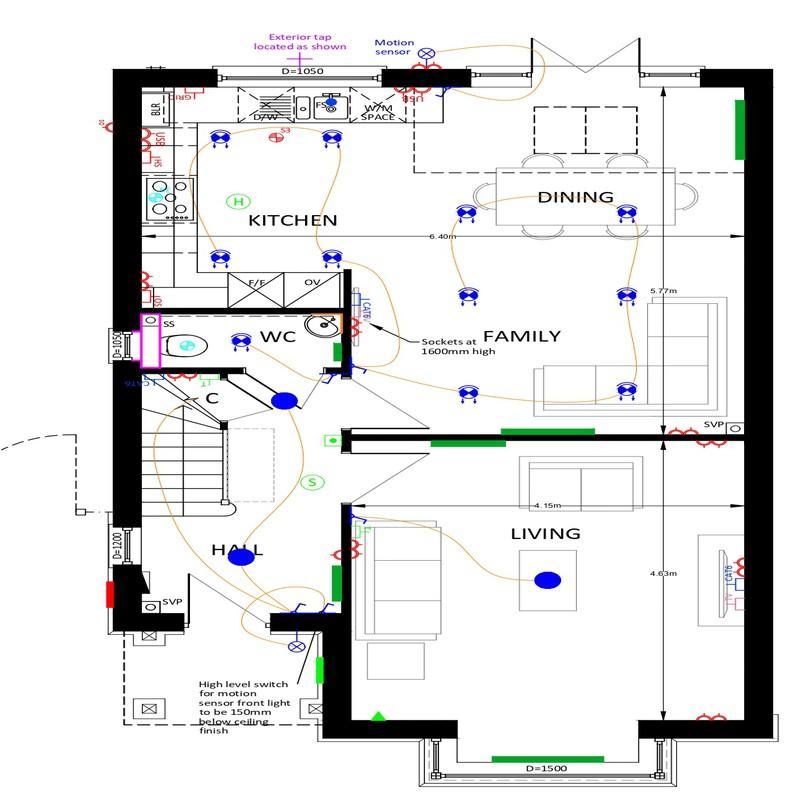BT Entry Point: (371, 711, 385, 720)
Cat 6 Data Socket: (724, 565, 744, 591), (352, 293, 370, 318), (136, 374, 164, 386)
Ceiling Mounted Continuous Extract FanWith Boost Mode Activated By Light Switch: (180, 341, 195, 350)
Ceiling Mounted Continuous Extract FanWith Local Boost Switch: (269, 127, 290, 143)
Co-Ax TV Socket: (724, 593, 744, 610), (352, 306, 371, 322)
Consumer Unit: (142, 571, 150, 594)
Double Socket: (167, 373, 197, 382), (141, 270, 154, 290), (351, 540, 363, 559), (668, 427, 699, 434), (696, 713, 726, 720), (697, 441, 727, 448), (733, 558, 744, 577), (412, 62, 441, 69), (351, 319, 362, 337)
Electric Meter Box: (106, 581, 114, 608)
External Wall Light: (288, 631, 306, 653), (418, 47, 435, 67)
Gas Meter Box: (316, 657, 323, 684)
Grid Switch: (169, 87, 204, 102)
Hob Switch: (141, 151, 162, 167)
Light Switch: (351, 514, 367, 525), (352, 364, 367, 375), (291, 603, 307, 613), (322, 374, 336, 385), (435, 87, 448, 98), (319, 603, 334, 612)
Low Energy Downlighter: (209, 129, 231, 149), (456, 204, 477, 224), (322, 129, 343, 148), (210, 249, 231, 268), (322, 249, 343, 268), (231, 333, 252, 352), (616, 204, 637, 223), (458, 385, 479, 404), (617, 287, 637, 306), (617, 382, 637, 401), (459, 287, 479, 306)
Low Energy Pendant Light: (271, 392, 298, 410), (228, 548, 255, 566), (535, 572, 561, 589)
Mains Wired Smoke Detector: (300, 475, 325, 491)
Outside Socket: (98, 118, 112, 133)
Oven Switch: (142, 290, 162, 306)
Programmable Room Thermostat: (324, 435, 341, 446)
Radiator: (492, 756, 604, 763), (735, 100, 745, 159), (501, 429, 595, 435), (431, 440, 506, 447), (332, 565, 341, 601), (334, 343, 342, 361)
Recirculating Extractor Fan: (148, 187, 169, 202)
Single Socket: (330, 550, 341, 560)
Telephone Socket: (200, 374, 219, 387), (352, 526, 371, 538)
USB Double Socket: (141, 128, 166, 152), (394, 87, 431, 103)
Water Entry Position: (287, 52, 312, 67), (326, 99, 337, 106)
